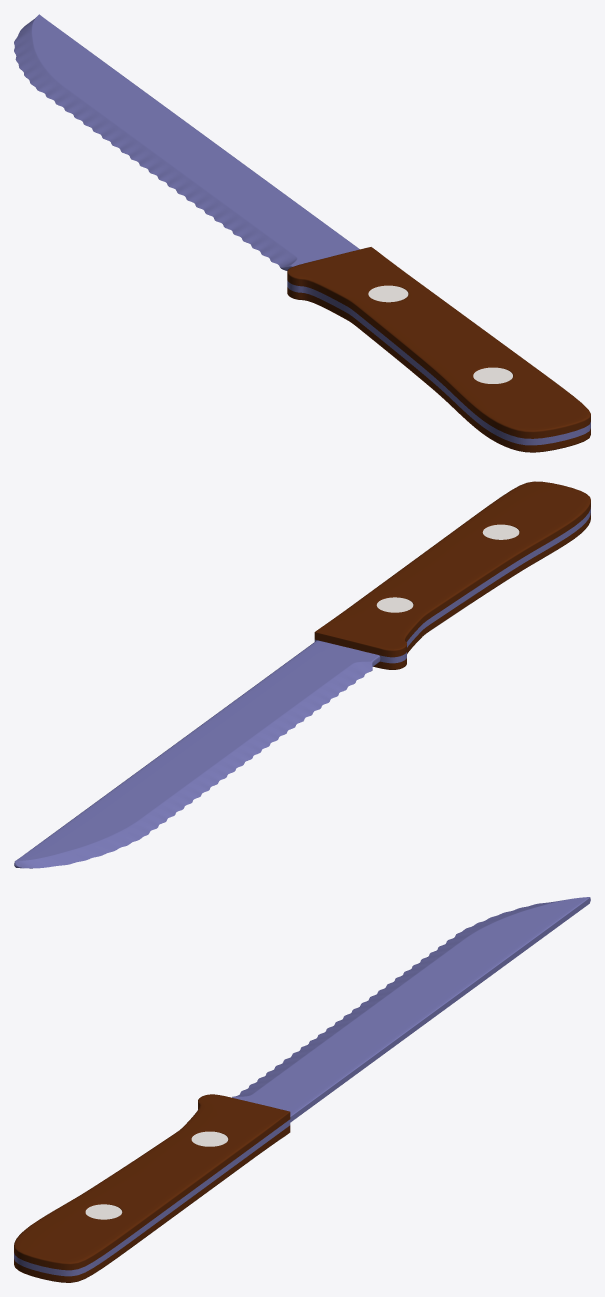
File: knife.fbx
3 renders of one model, top to bottom at view 1: azimuth 30°, elevation 25°; view 2: azimuth 150°, elevation 25°; view 3: azimuth 330°, elevation 25°, orthographic. The views are drawn at different scales.
Parts seen in each view (by area): view 1: Object002, Box002, Object001; view 2: Object002, Box002, Object001; view 3: Object002, Box002, Object001.
Part boxes in pixels (x1=…): Object002: x1=14, y1=14, x2=590, y2=445; Box002: x1=287, y1=247, x2=590, y2=452; Object001: x1=368, y1=285, x2=512, y2=383; Object002: x1=14, y1=507, x2=590, y2=868; Box002: x1=314, y1=481, x2=590, y2=669; Object001: x1=376, y1=524, x2=519, y2=612; Object002: x1=14, y1=897, x2=590, y2=1276; Box002: x1=14, y1=1094, x2=290, y2=1282; Object001: x1=85, y1=1131, x2=228, y2=1219.
Size of the model in its own units: 24.25 by 5.86 by 262.
